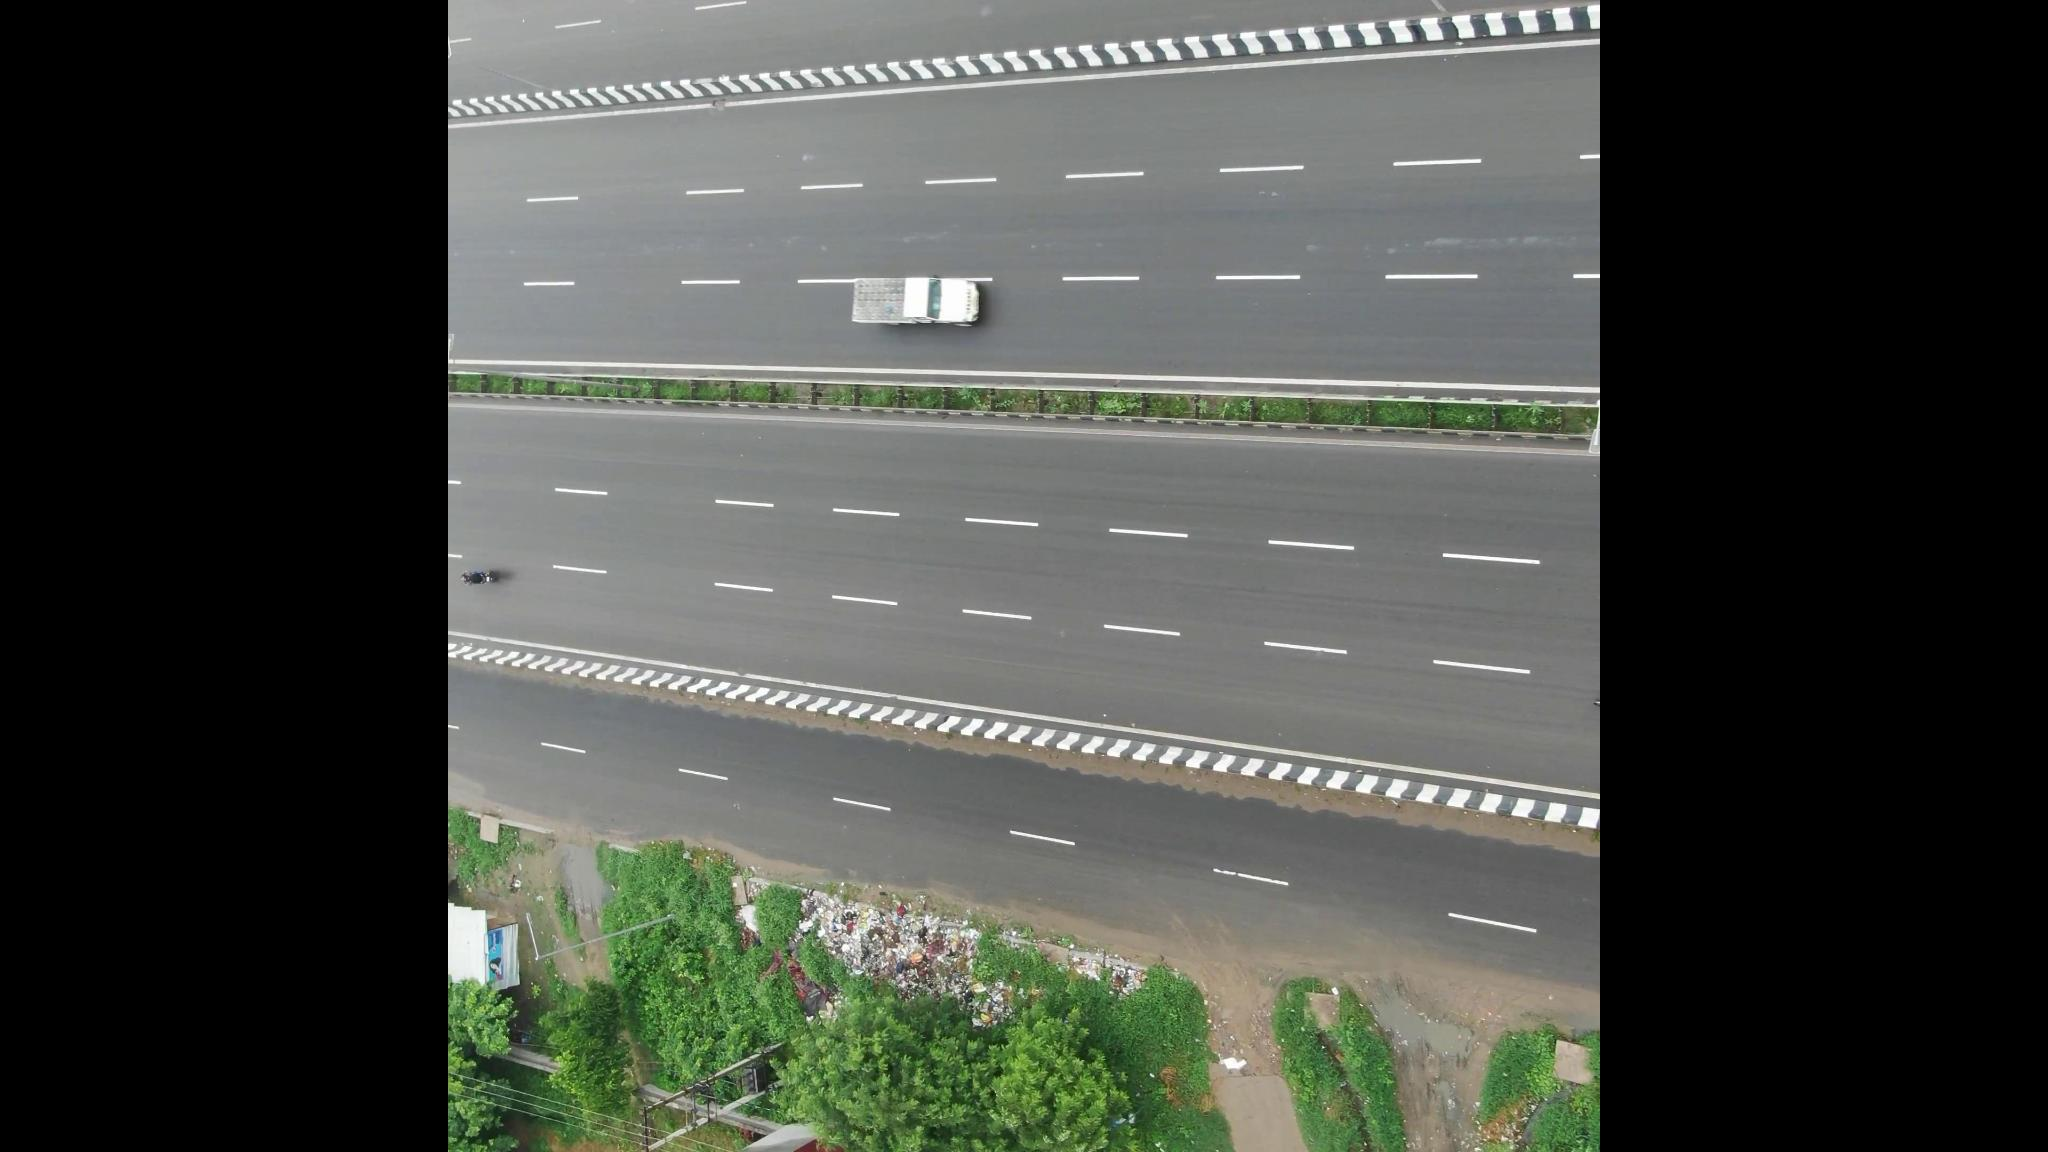Road_side_garbage: (791, 882, 1042, 1030)
